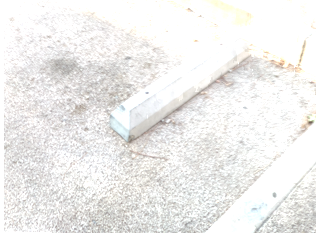Obstacle: (101, 32, 281, 149)
